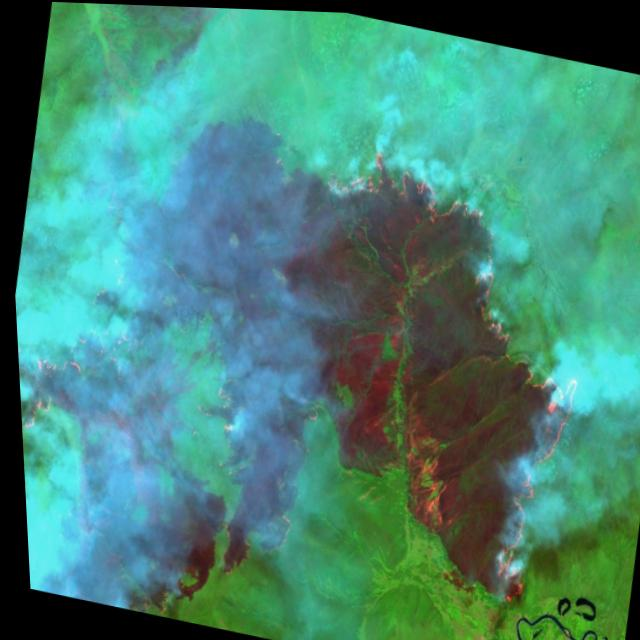fire: (3, 70, 622, 616)
